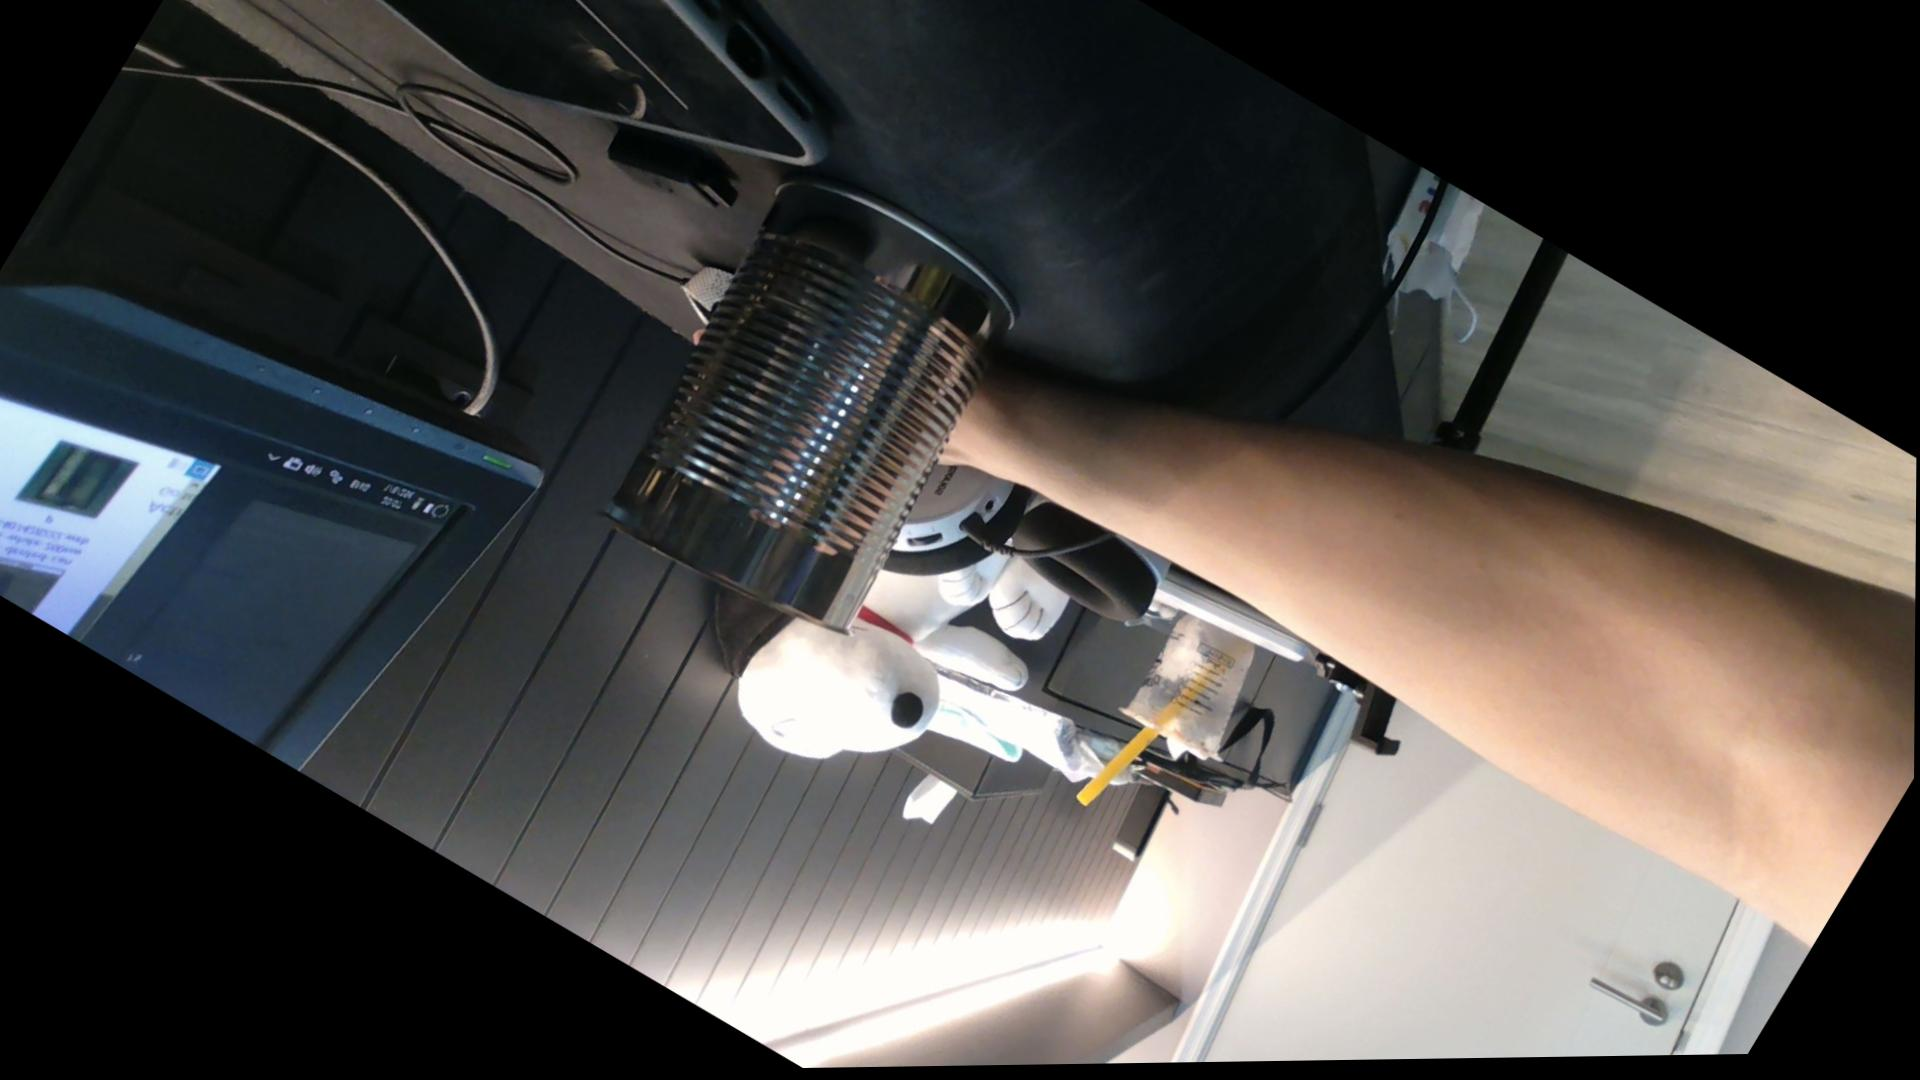metal: (611, 185, 1006, 669)
